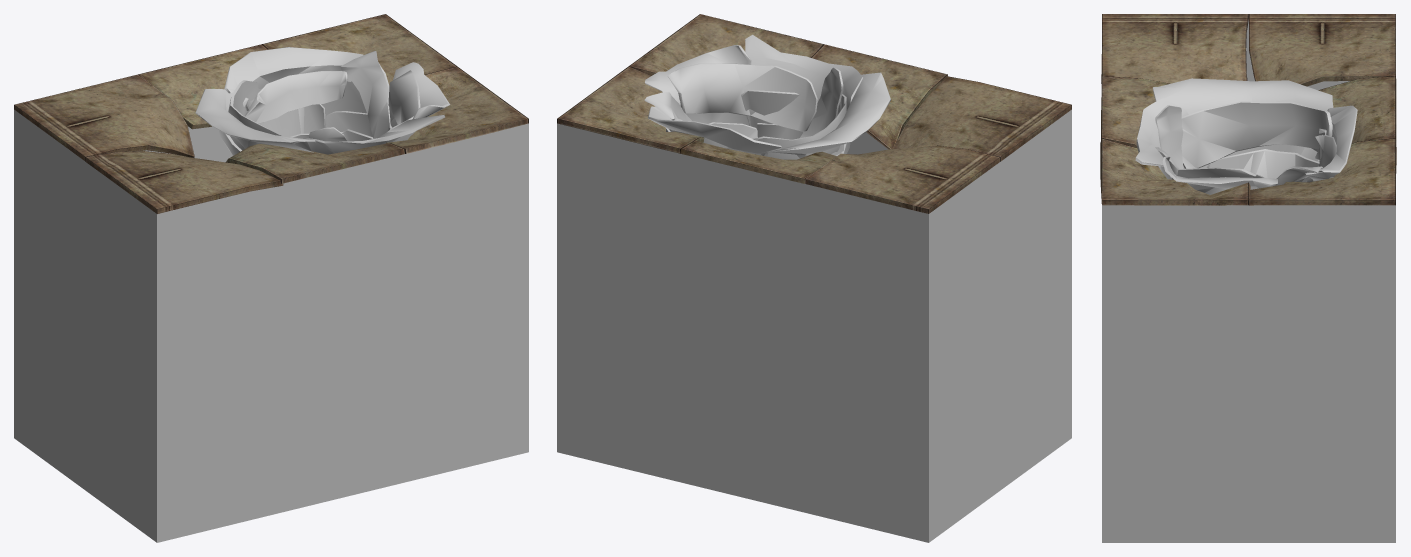
Rendered from 01_02_pplant_ground_tunnel_edge.dae.
3 views of the same model, side by side, from view 1: azimuth 30°, elevation 25°; view 2: azimuth 150°, elevation 25°; view 3: azimuth 270°, elevation 25° (orthographic). The views are drawn at different scales.
Parts seen in each view (by area): view 1: robot_tunnel_exit_floor, 01_02_floor_tunnel_exit_edge; view 2: robot_tunnel_exit_floor, 01_02_floor_tunnel_exit_edge; view 3: robot_tunnel_exit_floor, 01_02_floor_tunnel_exit_edge.
Part boxes in pixels (<box>): robot_tunnel_exit_floor: <box>14,47,528,542</box>; 01_02_floor_tunnel_exit_edge: <box>14,14,528,213</box>; robot_tunnel_exit_floor: <box>557,34,1071,542</box>; 01_02_floor_tunnel_exit_edge: <box>557,14,1071,213</box>; robot_tunnel_exit_floor: <box>1102,19,1395,542</box>; 01_02_floor_tunnel_exit_edge: <box>1100,14,1396,205</box>.
Bounding box in the file's own units: 6.03 × 5.35 × 4.03.
